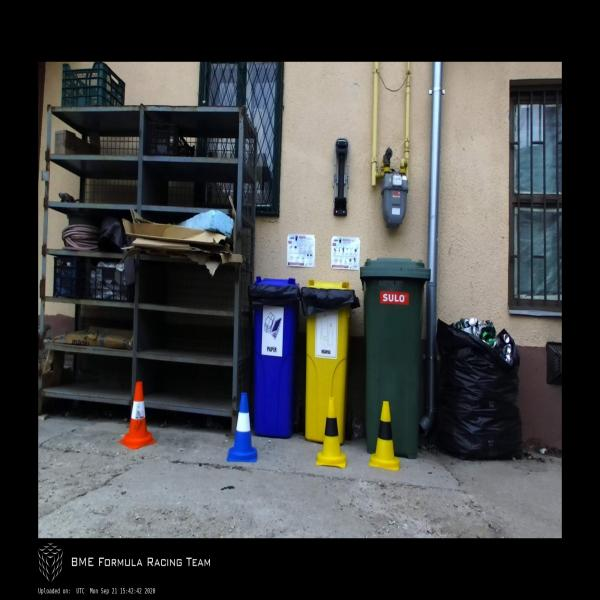blue_cone: (227, 393, 257, 462)
orange_cone: (119, 382, 156, 450)
yellow_cone: (316, 397, 347, 468), (369, 402, 400, 470)
